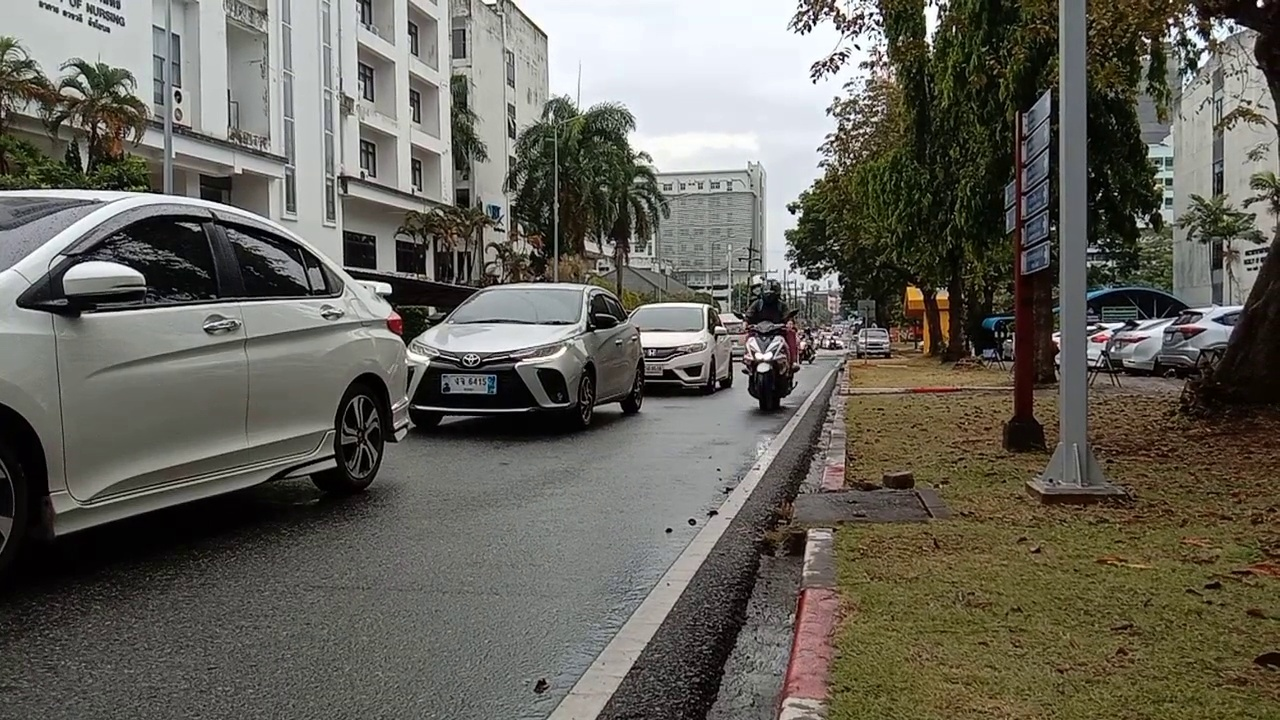License Plate: (439, 372, 497, 395)
